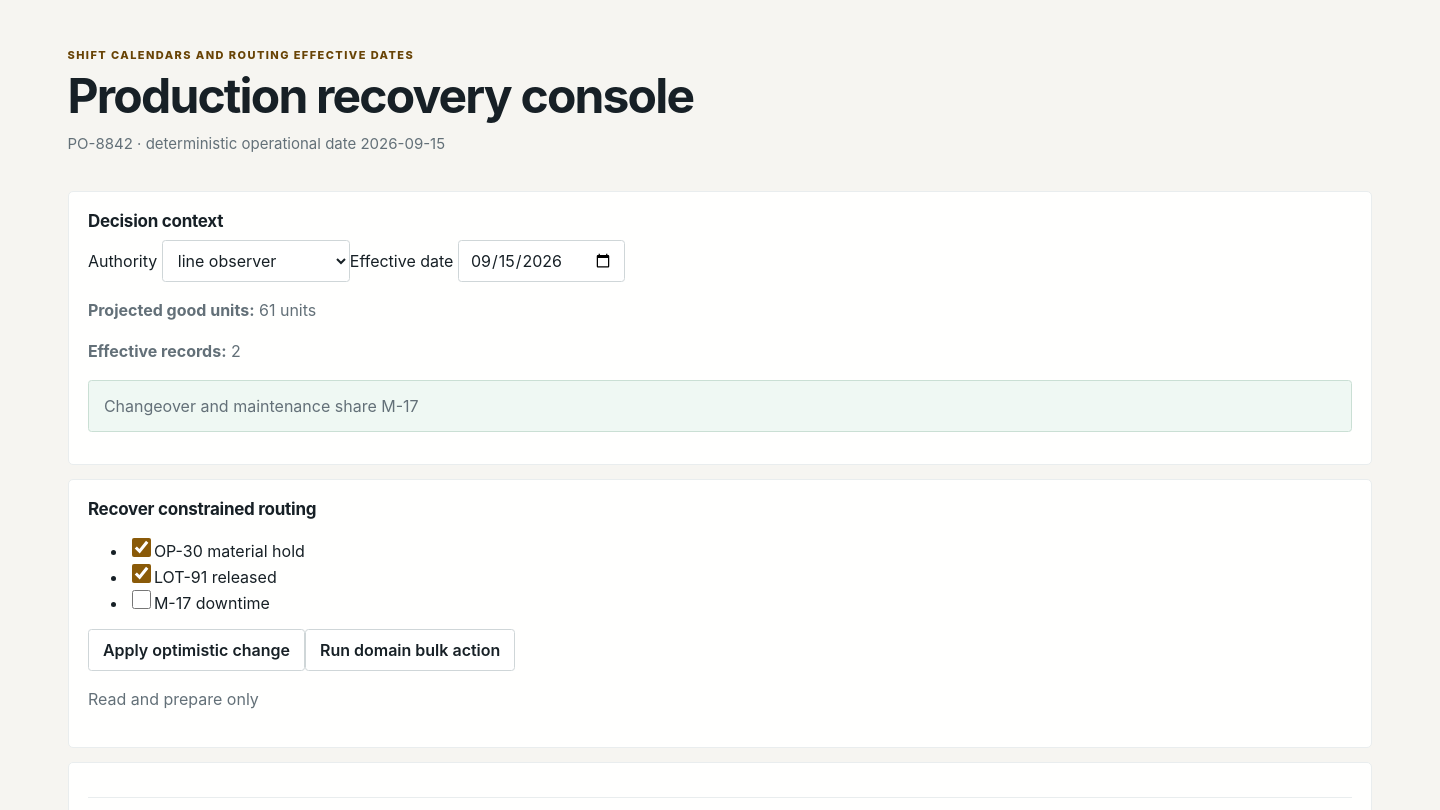
Scenario: Production recovery console › shows permission behavior and partial recovery in the UI
This screenshot has width=1440, height=810.
Step 1. Select "quality approver" in the dropdown labelled "Authority" → (256, 261), box [162,240,350,282]
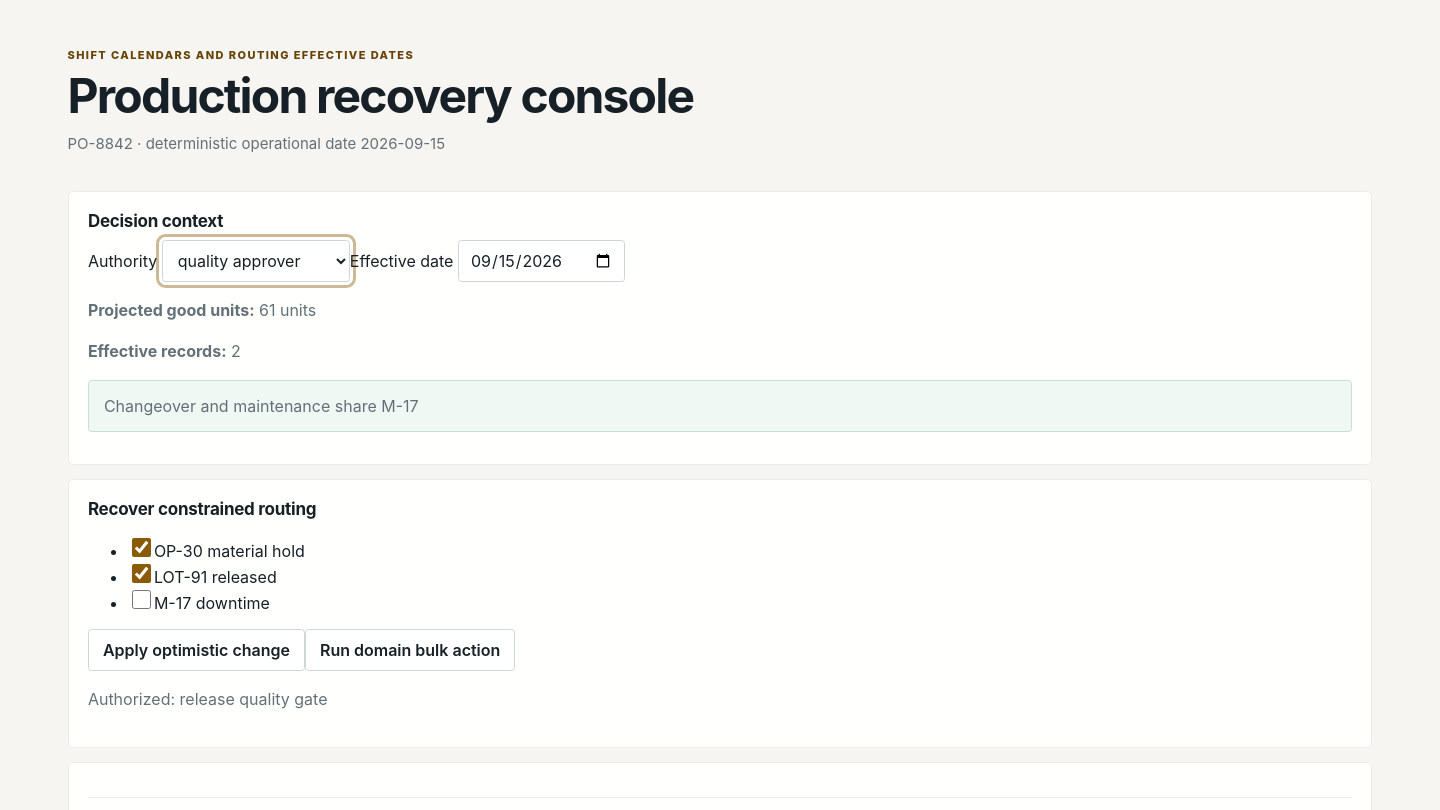
Step 2. Click the button "Run domain bulk action" → (410, 650), box [305,629,515,671]
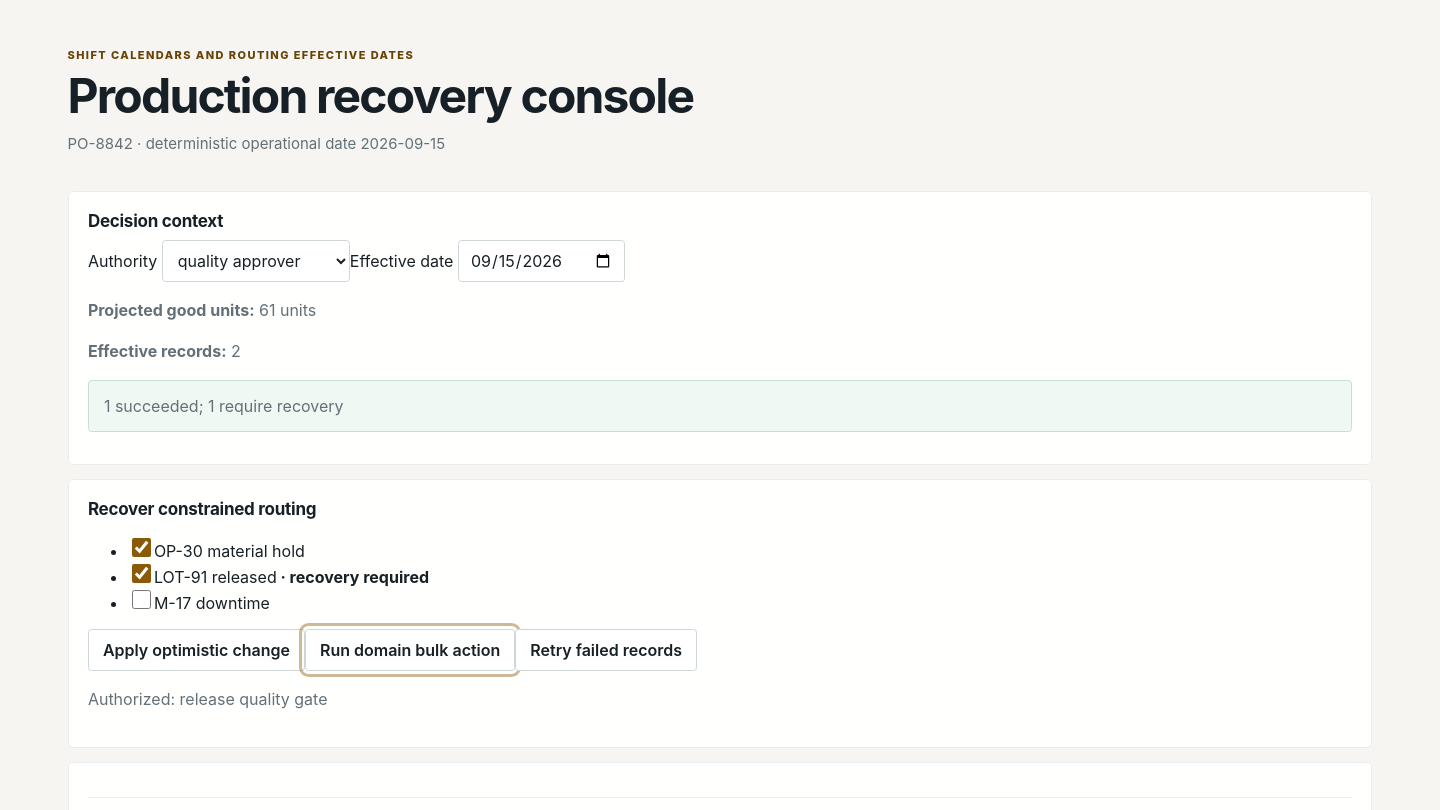
Check: the message reads "1 succeeded; 1 require recovery", box [104,396,344,416]
Check: the text "· recovery required" is shown, box [277,567,429,587]
Check: the button "Retry failed records" is shown, box [515,629,697,671]
